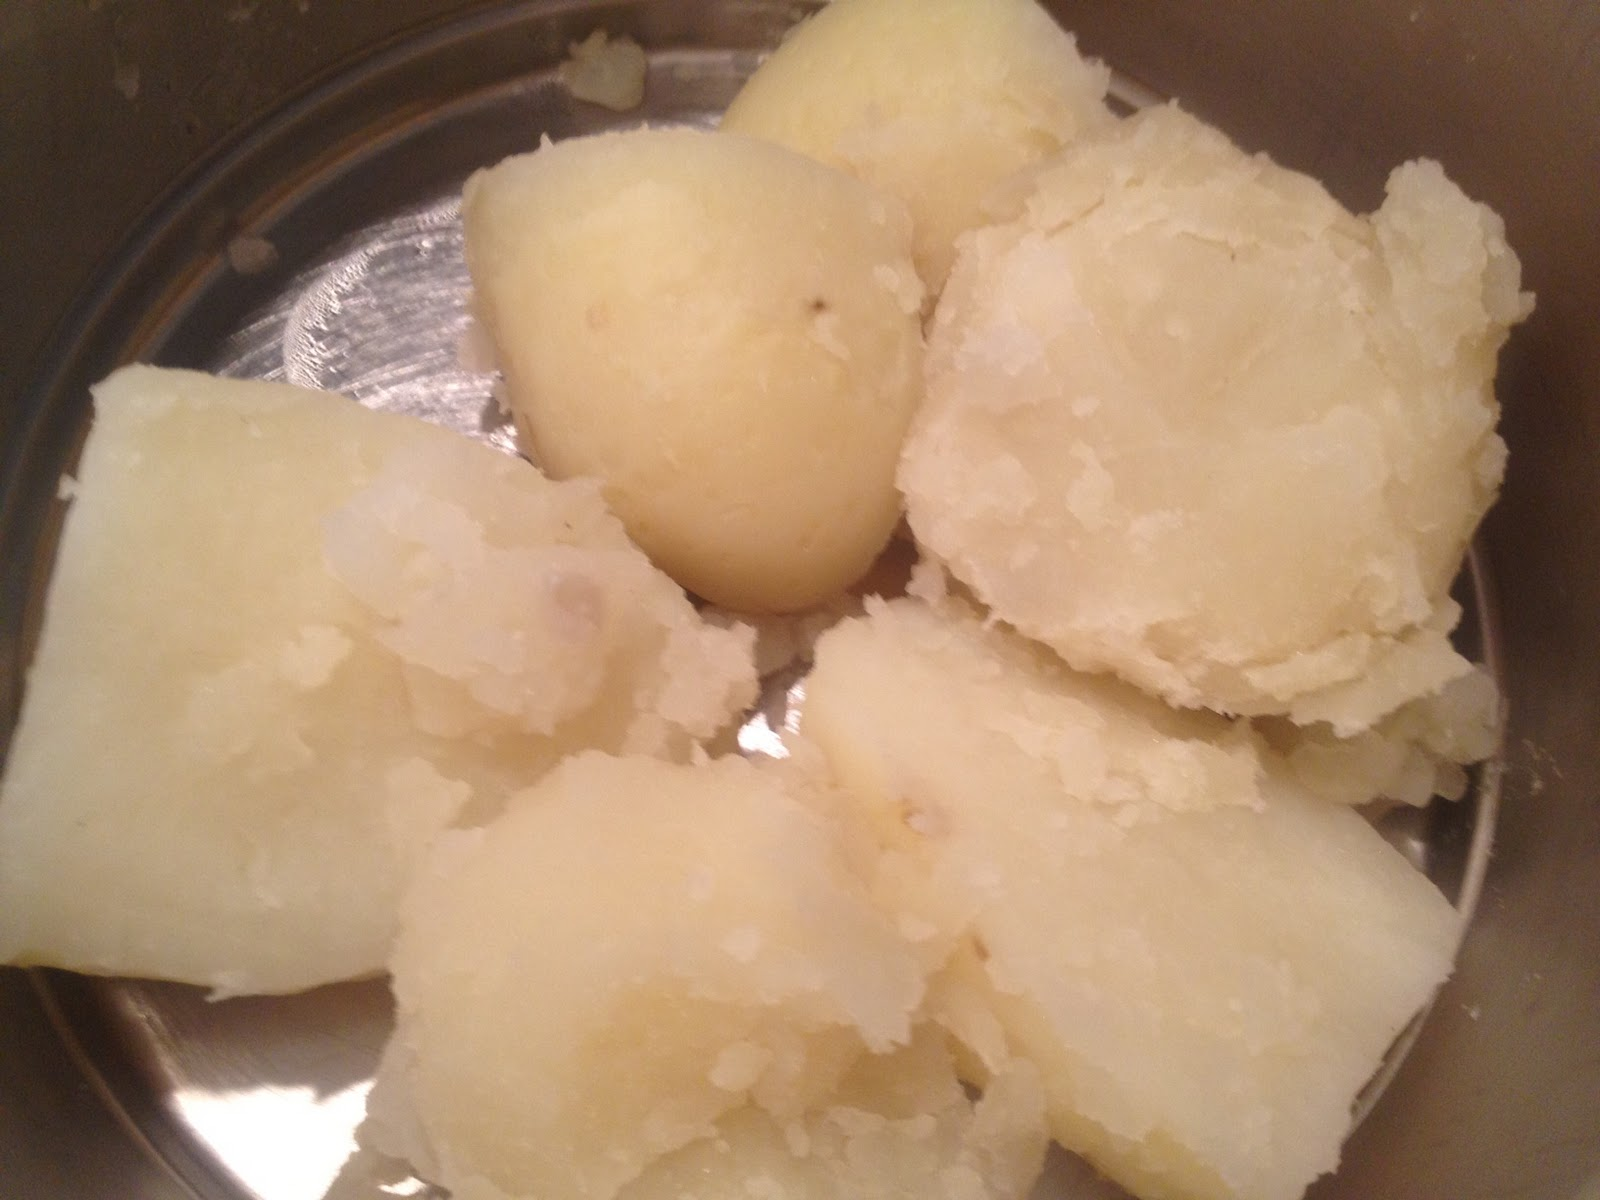boiled potatoes: (50, 105, 1451, 1196)
